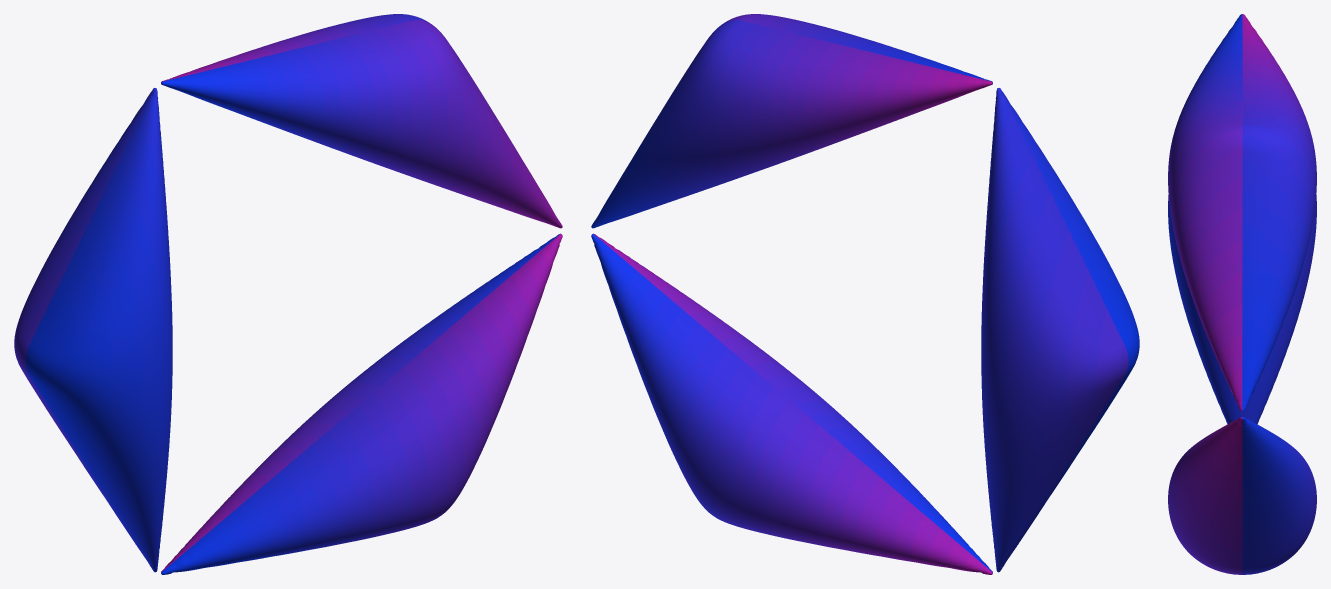
The model's file is supercode.glb.
The picture shows the model from 3 angles, left to right: view 1: azimuth 30°, elevation 25°; view 2: azimuth 150°, elevation 25°; view 3: azimuth 270°, elevation 25°; orthographic projection. The views are drawn at different scales.
Parts seen in each view (by area): view 1: Mesh_0, Mesh_2, Mesh_1; view 2: Mesh_0, Mesh_2, Mesh_1; view 3: Mesh_1, Mesh_0, Mesh_2.
Part boxes in pixels (x1,y1,x2,y2): Mesh_0: (161,233,562,574); Mesh_2: (14,88,172,572); Mesh_1: (161,14,562,228); Mesh_0: (591,233,992,574); Mesh_2: (981,88,1139,572); Mesh_1: (591,14,992,228); Mesh_1: (1168,14,1316,411); Mesh_0: (1168,417,1316,574); Mesh_2: (1168,195,1316,424).
Size of the model in its own units: 0.1495 by 0.1313 by 0.0396.
3 materials, 3 textured.
